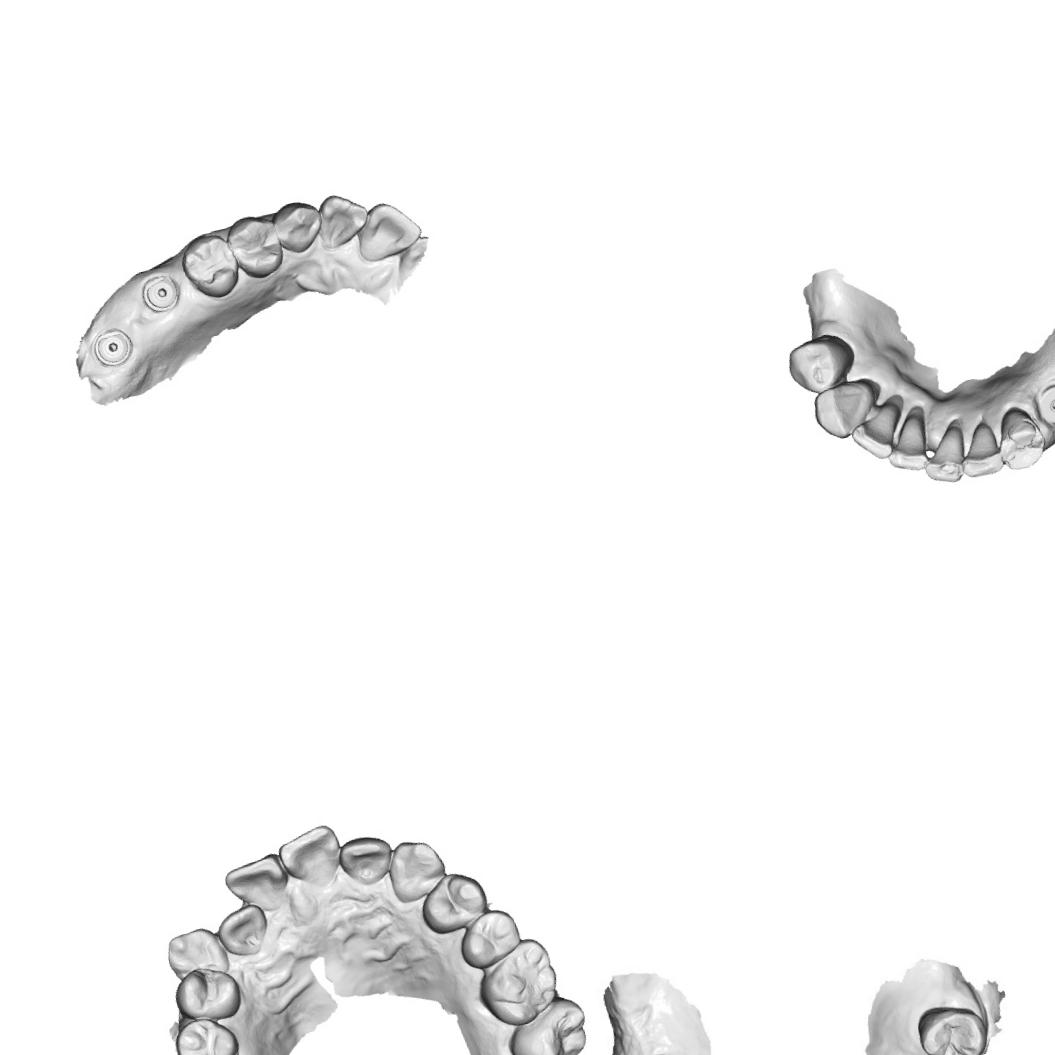canine: (806, 376, 888, 446), (379, 832, 452, 906), (158, 919, 234, 983), (989, 401, 1050, 478), (268, 196, 328, 258)
implant: (88, 324, 136, 370), (137, 270, 183, 316), (1029, 374, 1055, 429)
incisor: (272, 820, 352, 893), (220, 850, 298, 922), (350, 194, 426, 264), (876, 406, 939, 481), (952, 410, 1012, 484), (844, 401, 908, 468), (311, 188, 374, 252), (211, 900, 274, 964), (911, 426, 972, 492), (333, 830, 400, 888)
molar: (468, 932, 566, 1034), (498, 991, 590, 1055)
premolar: (413, 864, 495, 939), (780, 326, 864, 399), (167, 958, 247, 1028), (176, 228, 246, 304), (452, 905, 528, 973), (910, 994, 992, 1055), (224, 210, 288, 284), (166, 1009, 246, 1055)
